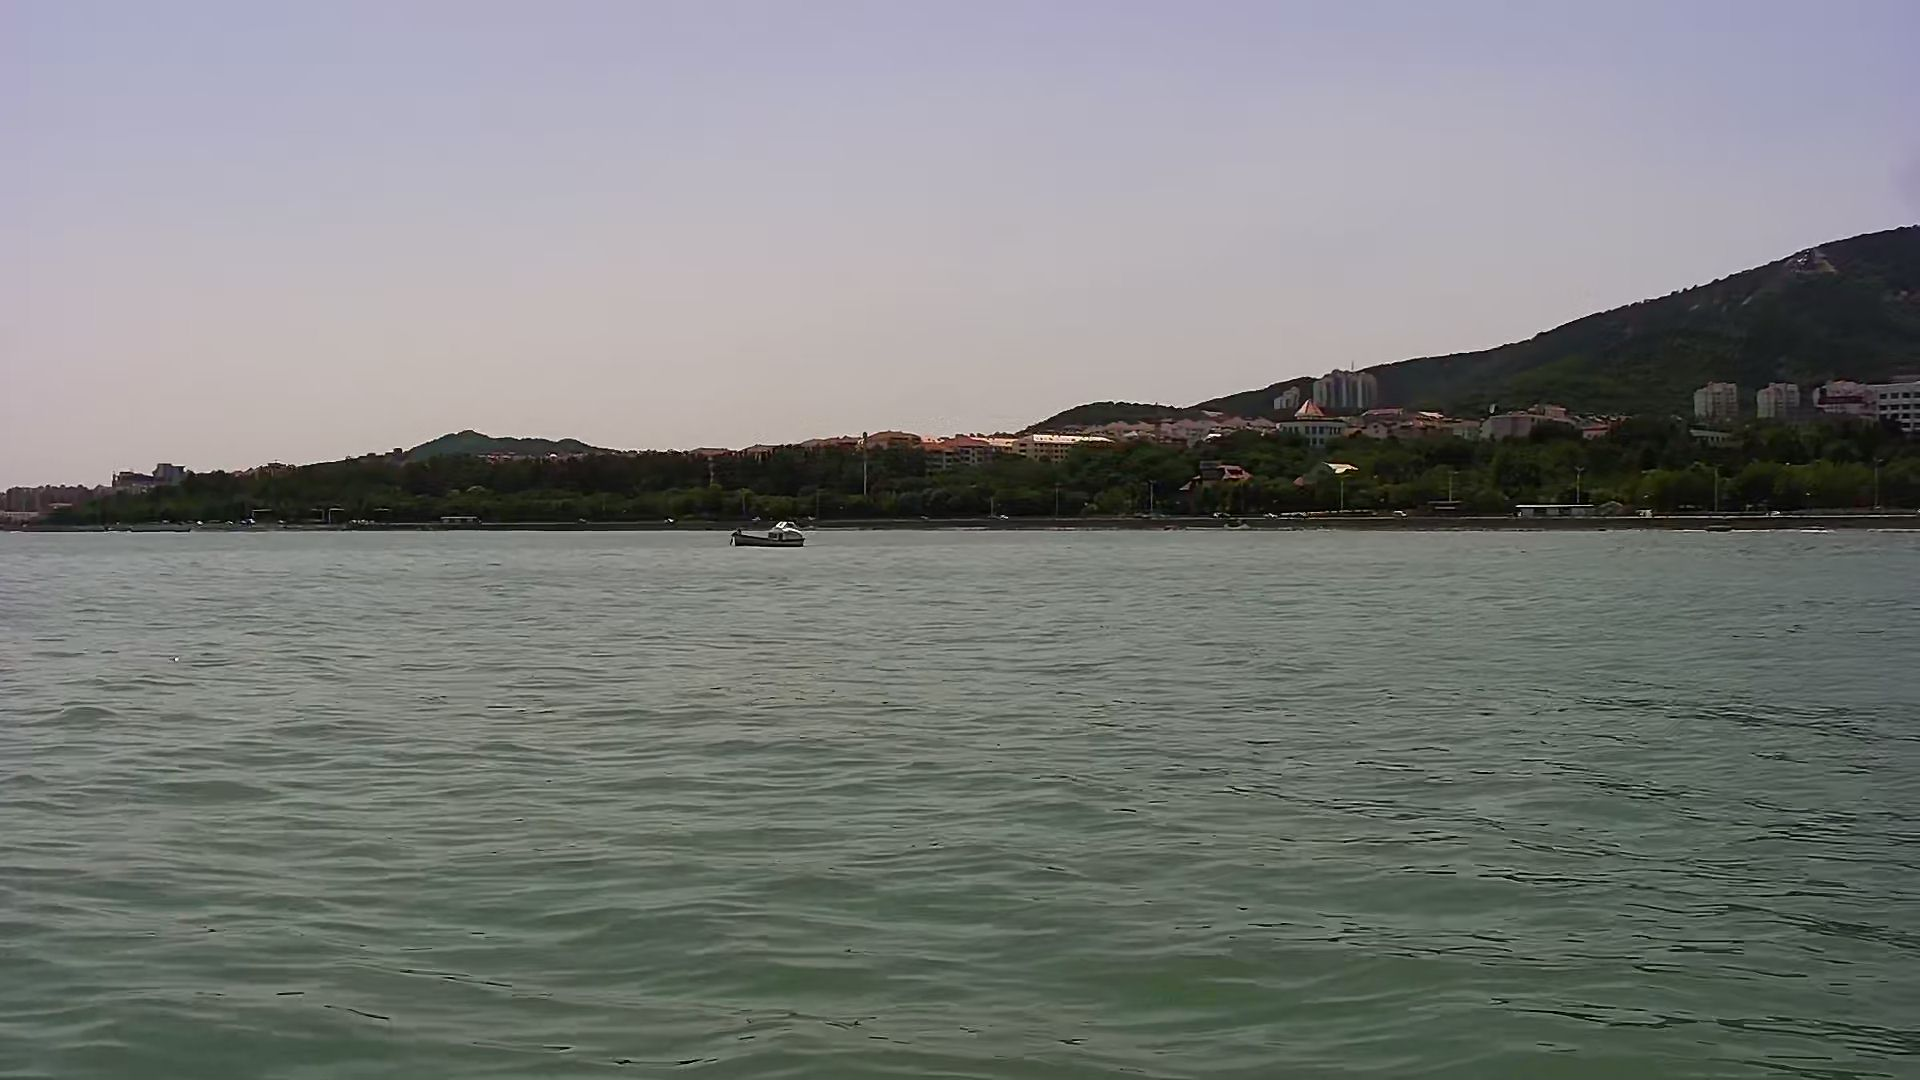ship: (729, 521, 815, 549)
